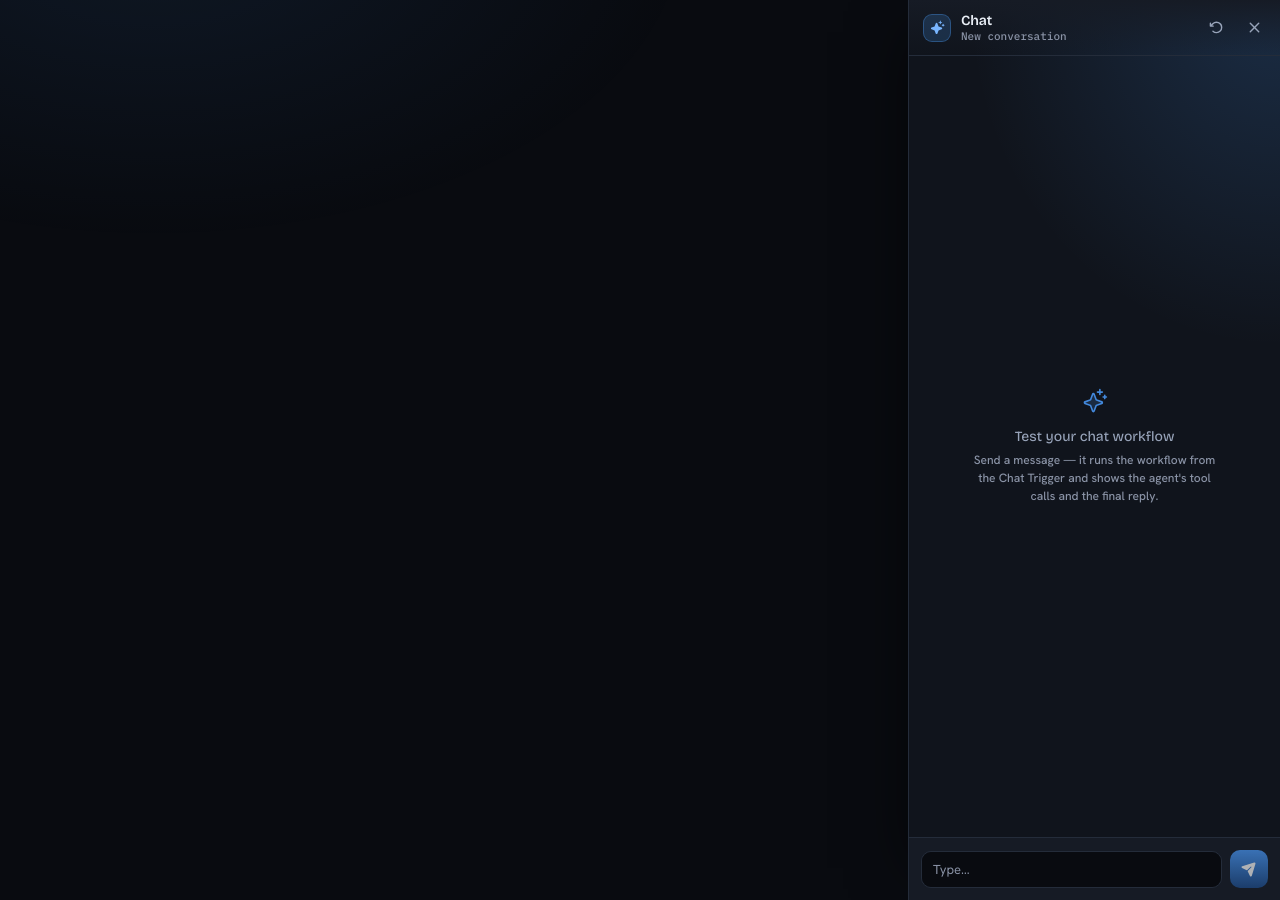
Test: ChatPanel › surfaces an approval prompt on run_waiting and resumes after approve
In the text box with placeholder "Type…": coordinates (1072, 870) [921,851,1222,888], type "send the email"
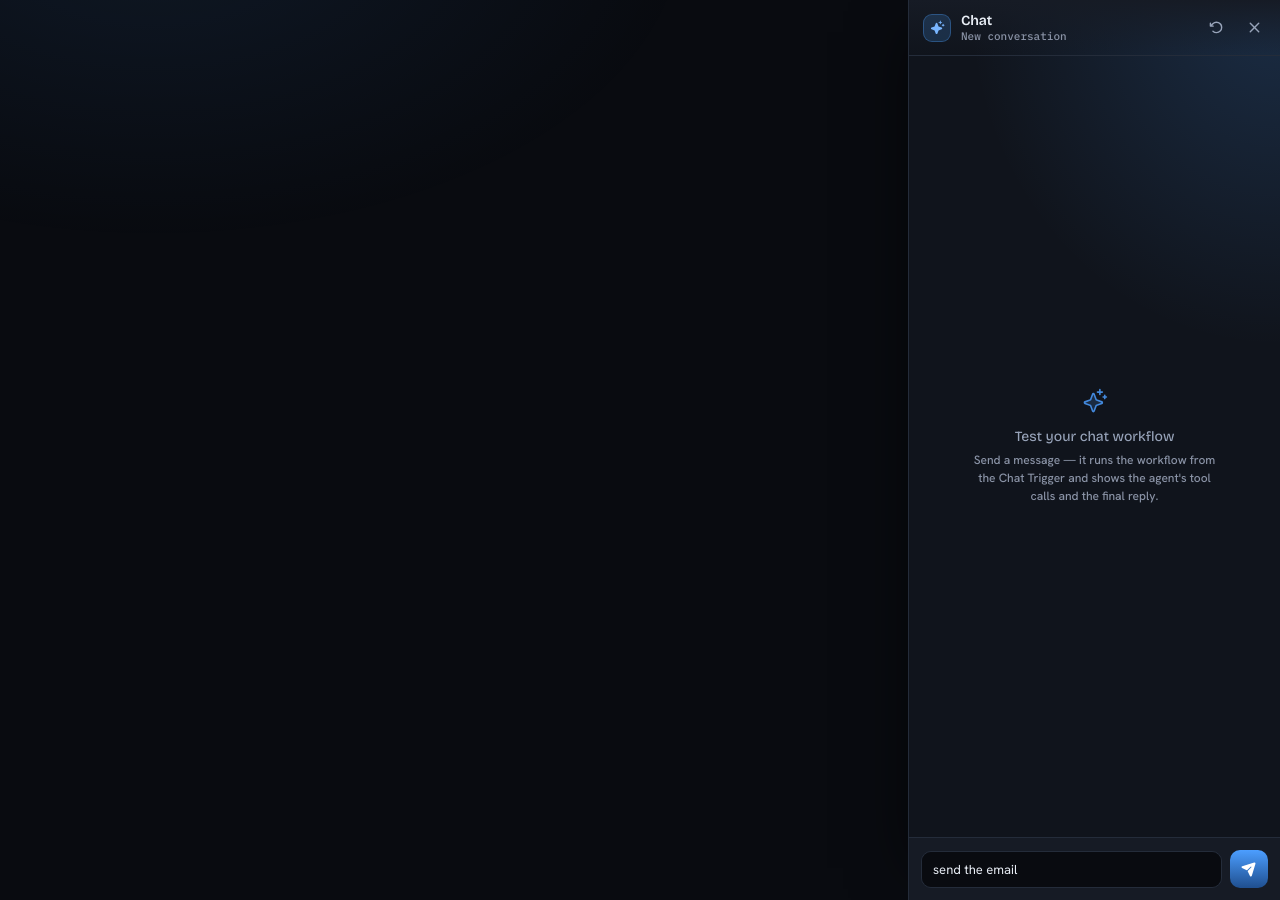
Click the button named "send": coordinates (1249, 869) [1230,850,1268,888]
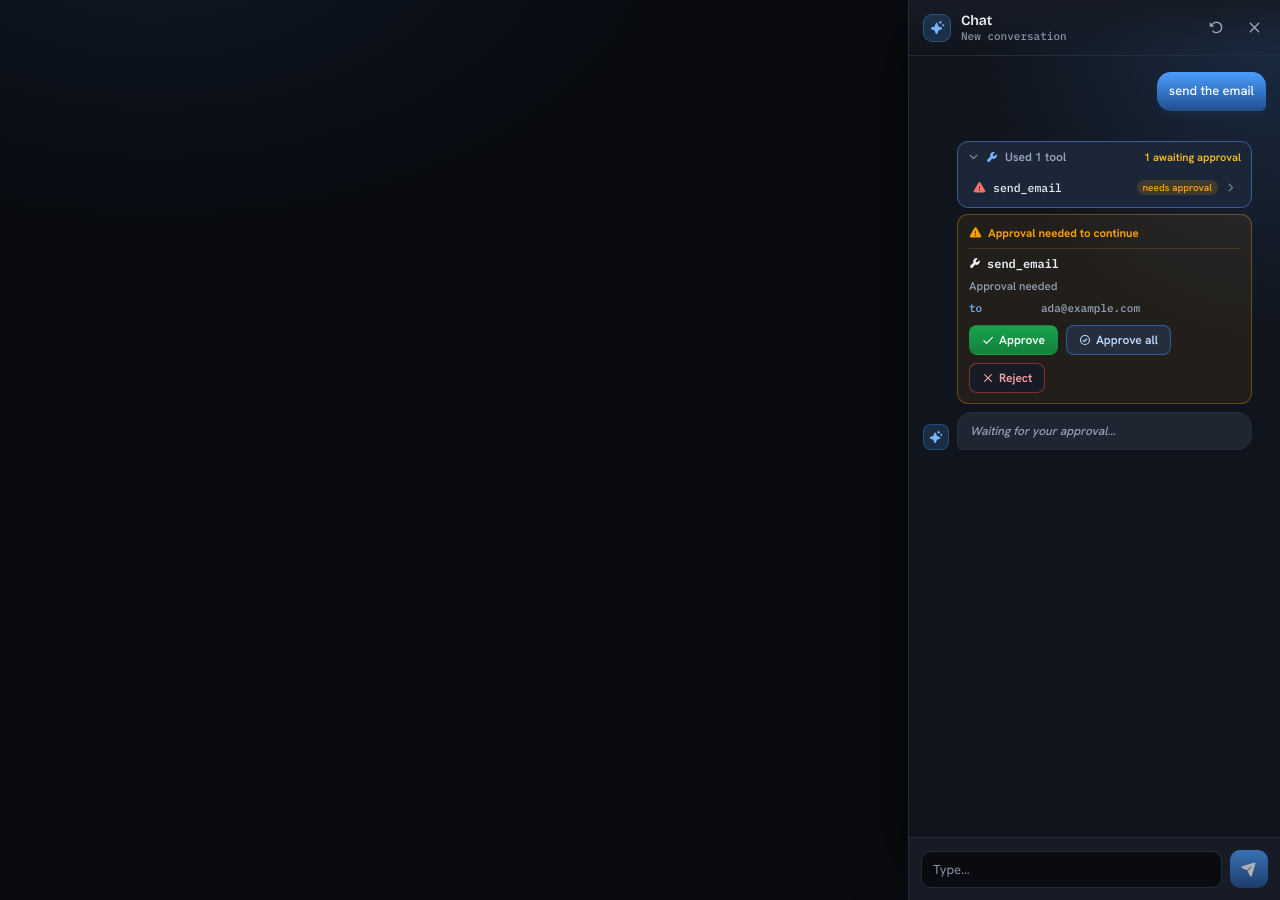
Check: the text "All done" is not shown
Check: the button "Approve all" is shown, box [1066,325,1171,355]
Check: the button "Reject" is shown, box [969,363,1046,393]
Click the button "Approve": coordinates (1013, 340) [969,325,1058,355]
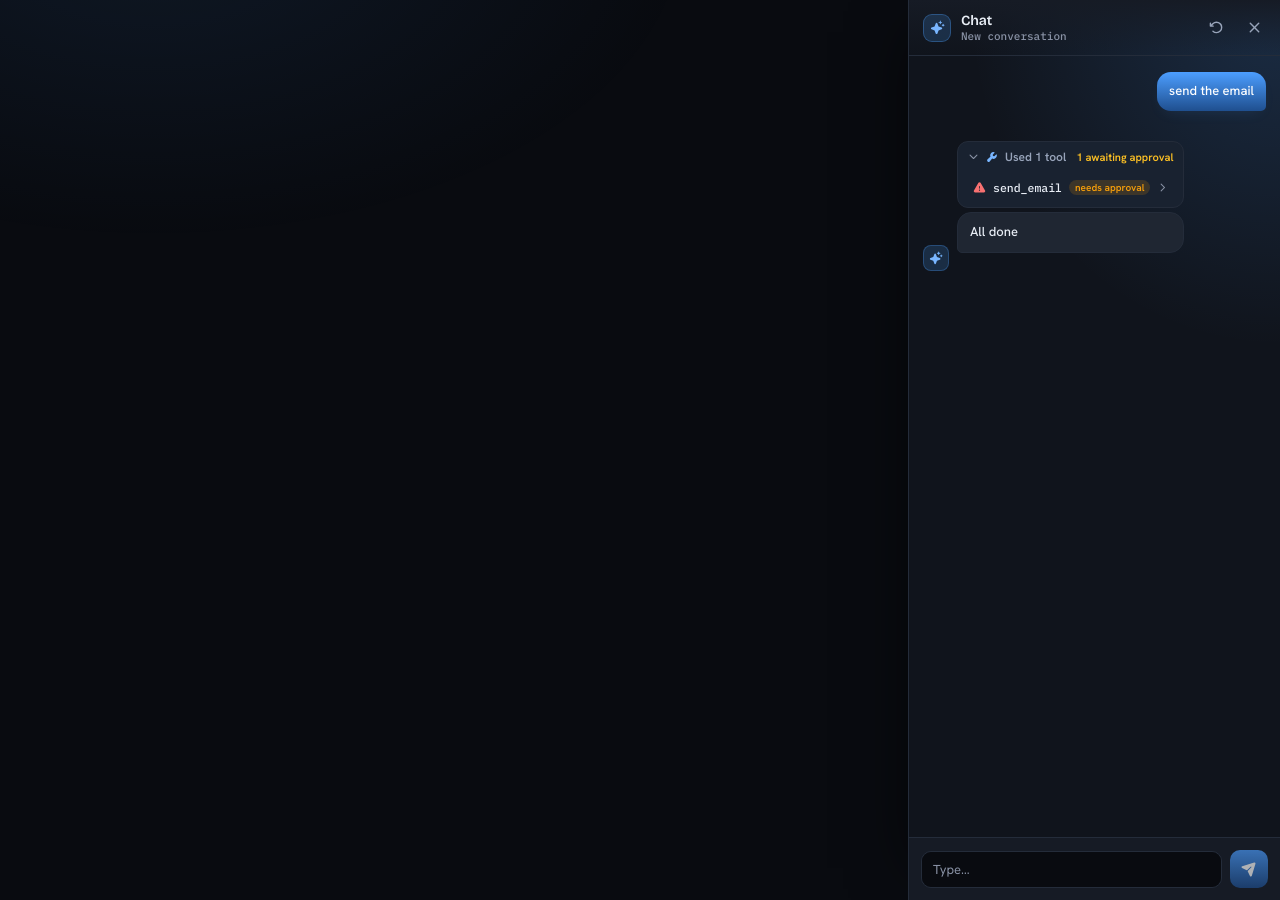
Check: the text "All done" is shown, box [970,223,1018,240]
